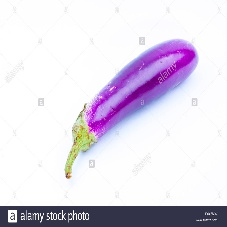eggplant: (71, 40, 198, 152)
